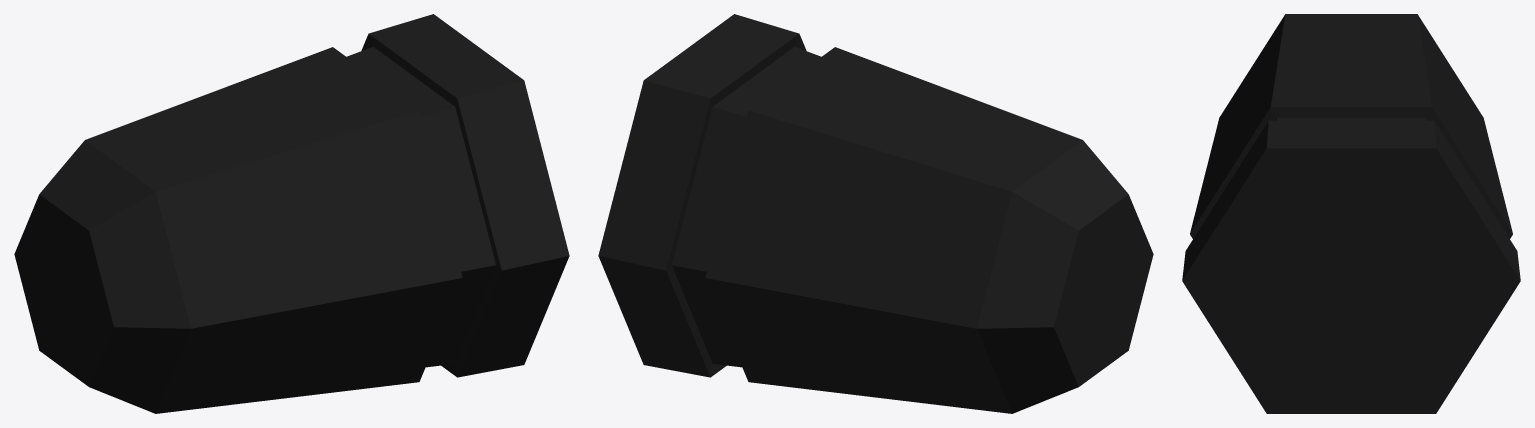
File: Bullet.fbx
3 renders of one model, left to right at view 1: azimuth 30°, elevation 25°; view 2: azimuth 150°, elevation 25°; view 3: azimuth 270°, elevation 25°, orthographic. The views are drawn at different scales.
Parts seen in each view (by area): view 1: Cylinder.001; view 2: Cylinder.001; view 3: Cylinder.001.
Part boxes in pixels (bbox=[...]): Cylinder.001: bbox=[14, 14, 569, 413]; Cylinder.001: bbox=[598, 14, 1153, 413]; Cylinder.001: bbox=[1182, 14, 1520, 413].
Bounding box in the file's own units: 8.25 × 5.41 × 6.25.
